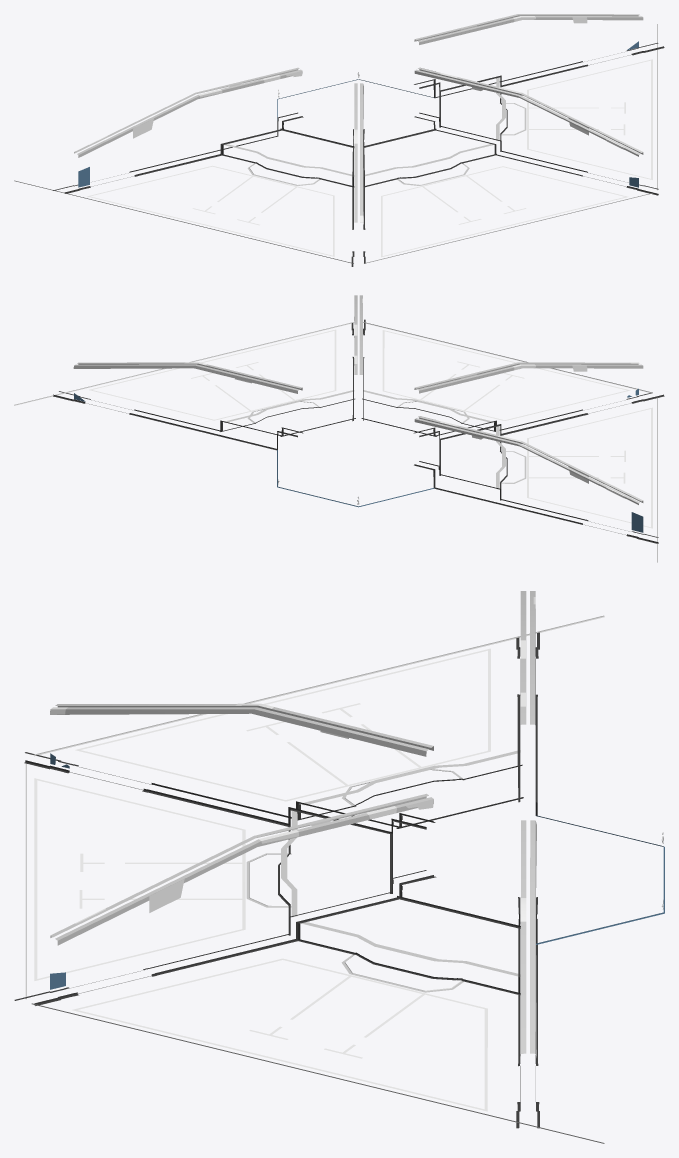
The picture shows the model from 3 angles, top to bottom: view 1: azimuth 30°, elevation 25°; view 2: azimuth 150°, elevation 25°; view 3: azimuth 270°, elevation 25°; orthographic projection. The views are drawn at different scales.
Parts seen in each view (by area): view 1: SM_H_Building_FutureTech_Test_01_ExterWall_01_Decal; view 2: SM_H_Building_FutureTech_Test_01_ExterWall_01_Decal; view 3: SM_H_Building_FutureTech_Test_01_ExterWall_01_Decal.
Boxes of the visible parts, <box> form: SM_H_Building_FutureTech_Test_01_ExterWall_01_Decal: <box>14,14,664,266</box>; SM_H_Building_FutureTech_Test_01_ExterWall_01_Decal: <box>14,295,664,562</box>; SM_H_Building_FutureTech_Test_01_ExterWall_01_Decal: <box>14,591,664,1143</box>.
Bounding box in the file's own units: 1907 × 3657 × 349.
